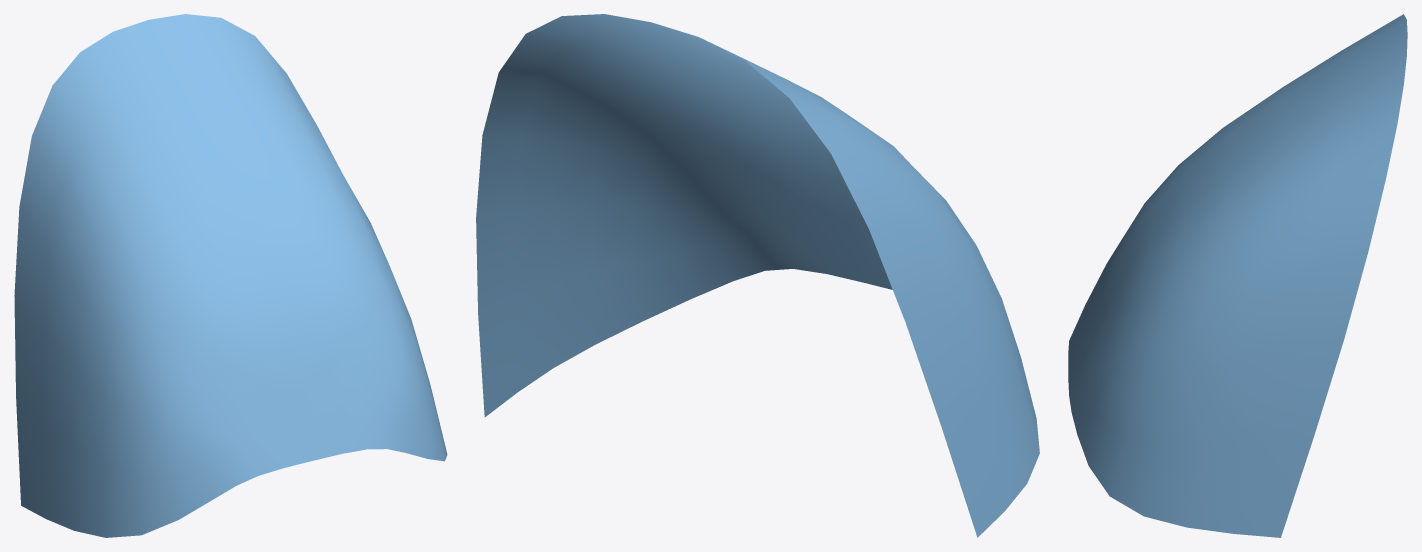
The model's file is SB-1_HUDGlass.fbx.
3 views of the same model, side by side, from view 1: azimuth 30°, elevation 25°; view 2: azimuth 150°, elevation 25°; view 3: azimuth 270°, elevation 25° (orthographic). The views are drawn at different scales.
Visible parts, largest first — view 1: SB-1HUDScreen; view 2: SB-1HUDScreen; view 3: SB-1HUDScreen.
Boxes of the visible parts, x1=… form: SB-1HUDScreen: x1=14, y1=14, x2=447, y2=537; SB-1HUDScreen: x1=476, y1=14, x2=1039, y2=537; SB-1HUDScreen: x1=1068, y1=14, x2=1407, y2=537.
Bounding box in the file's own units: 0.725 × 0.7228 × 0.5455.
